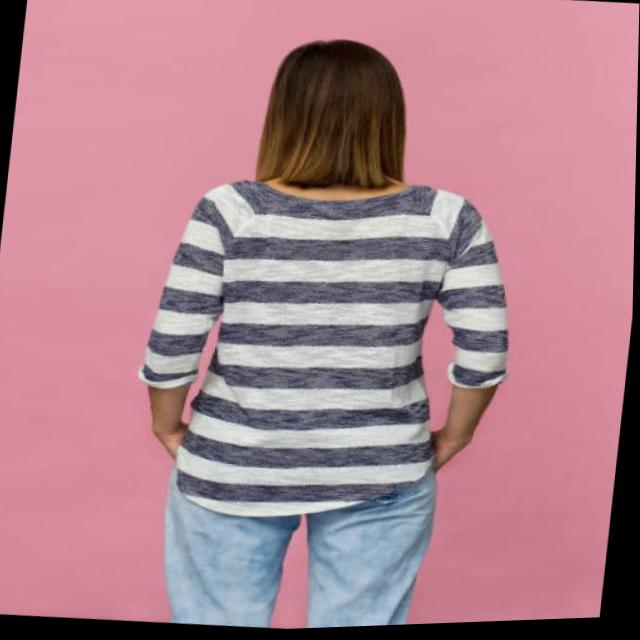no helmet: (210, 30, 449, 221)
